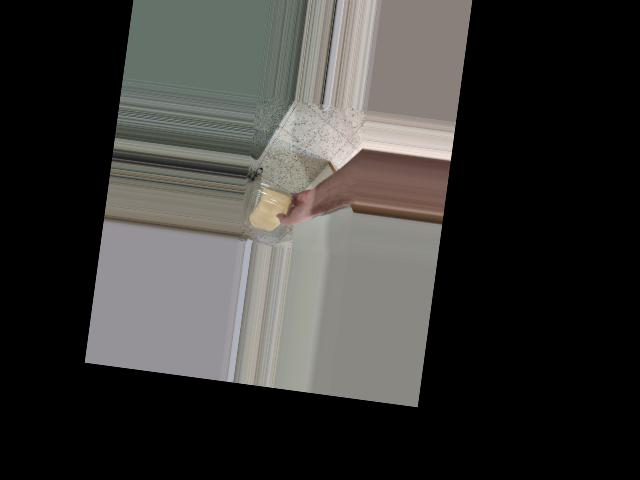cheese: (244, 181, 295, 235)
